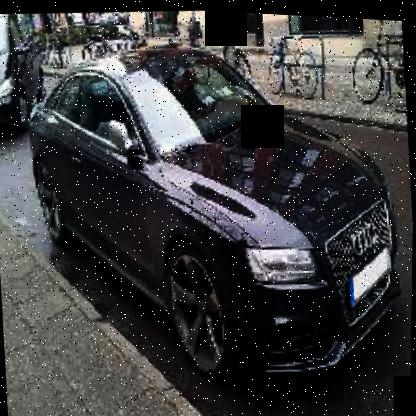not_emergency: (7, 17, 413, 411)
